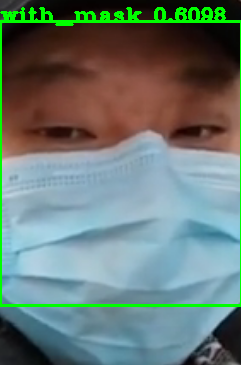with_mask: (1, 1, 241, 365)
